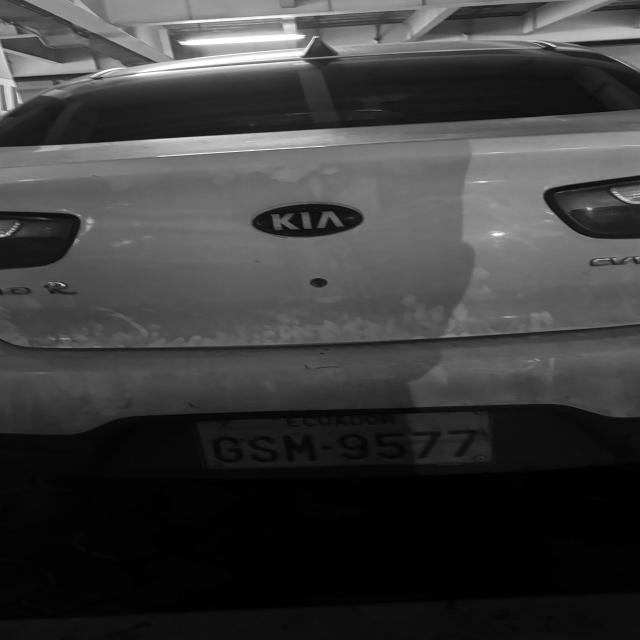Placa: (198, 412, 491, 469)
